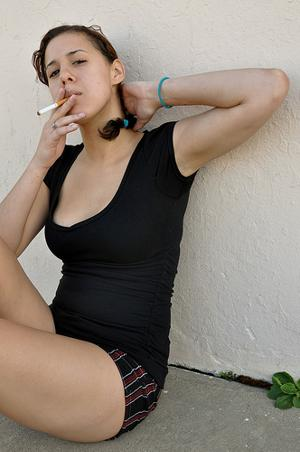person: (1, 23, 291, 444)
